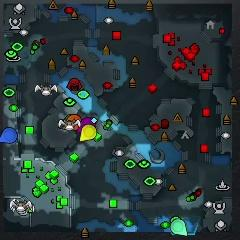p1: (0, 127, 17, 144)
p2: (171, 218, 187, 236)
p3: (80, 117, 97, 128)
p4: (79, 125, 97, 141)
p5: (64, 114, 80, 129)
